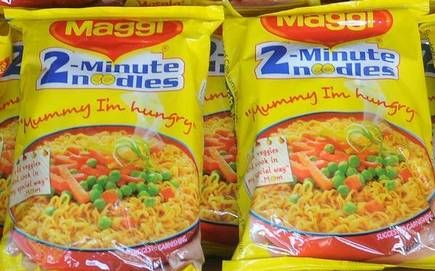maggi: (3, 10, 208, 271), (226, 14, 435, 268)
